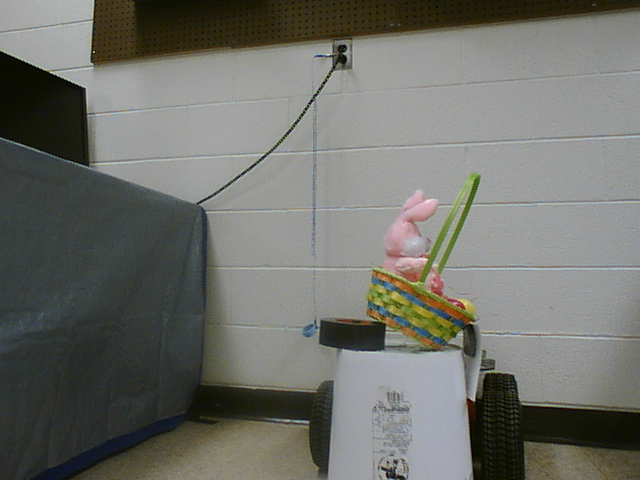bunny: (358, 160, 493, 353)
